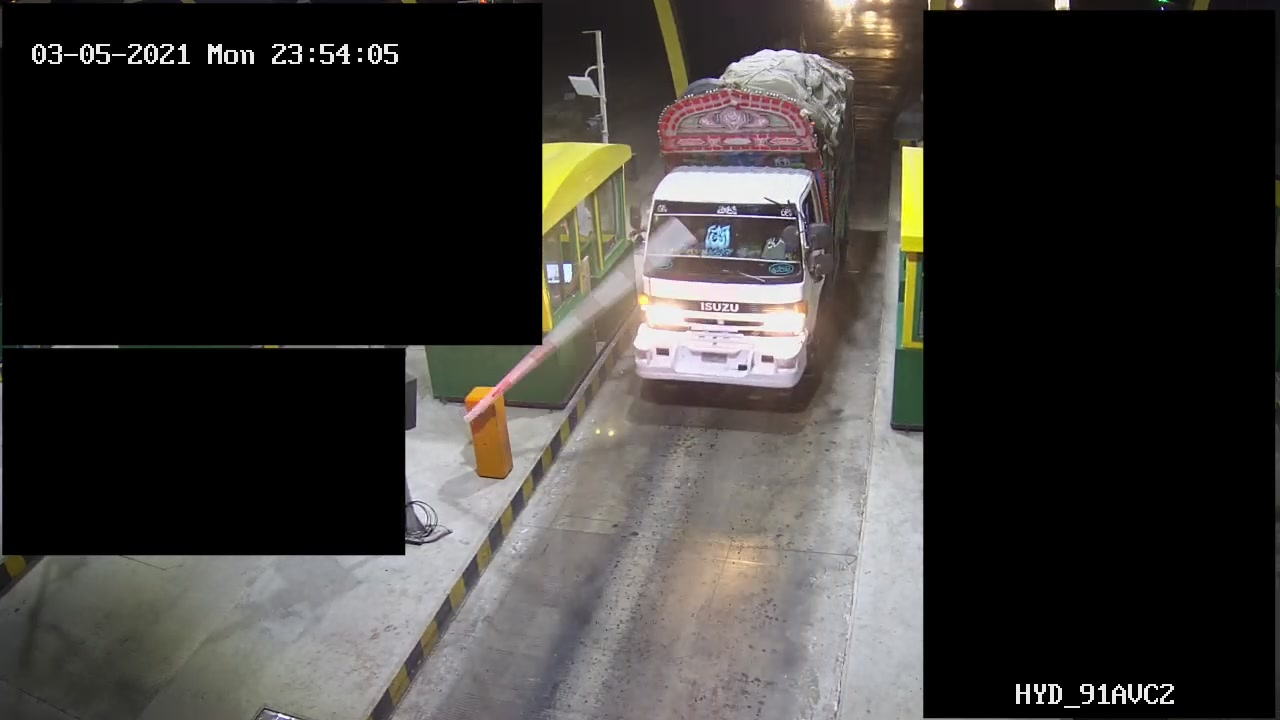F5: (627, 40, 864, 409)
